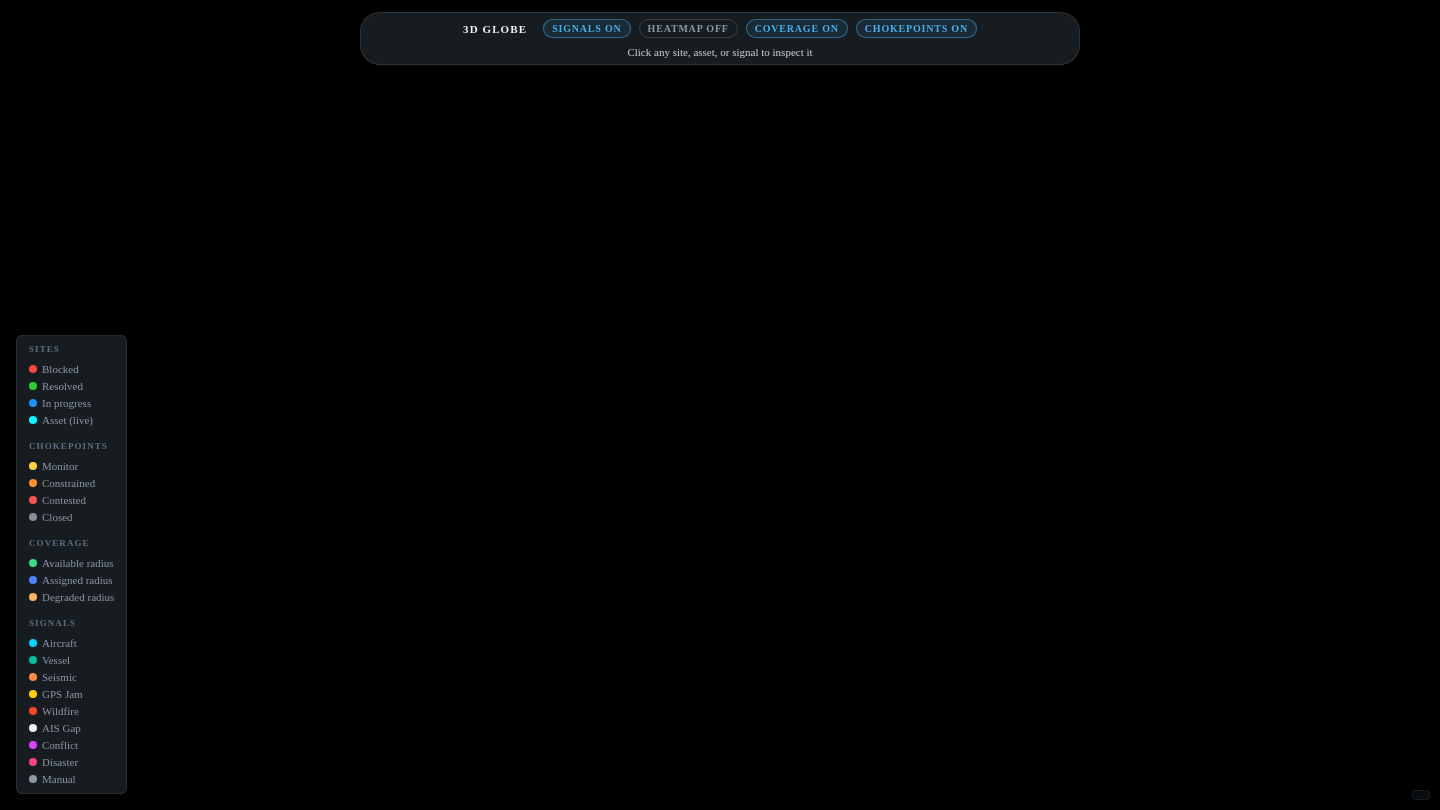
Test: GlobePage selection routing › toggles the heatmap overlay through globe page state
Expected: the text "LOW DENSITY" is not shown
Click the button "HEATMAP OFF".
click(688, 28)  # box [639,19,738,38]
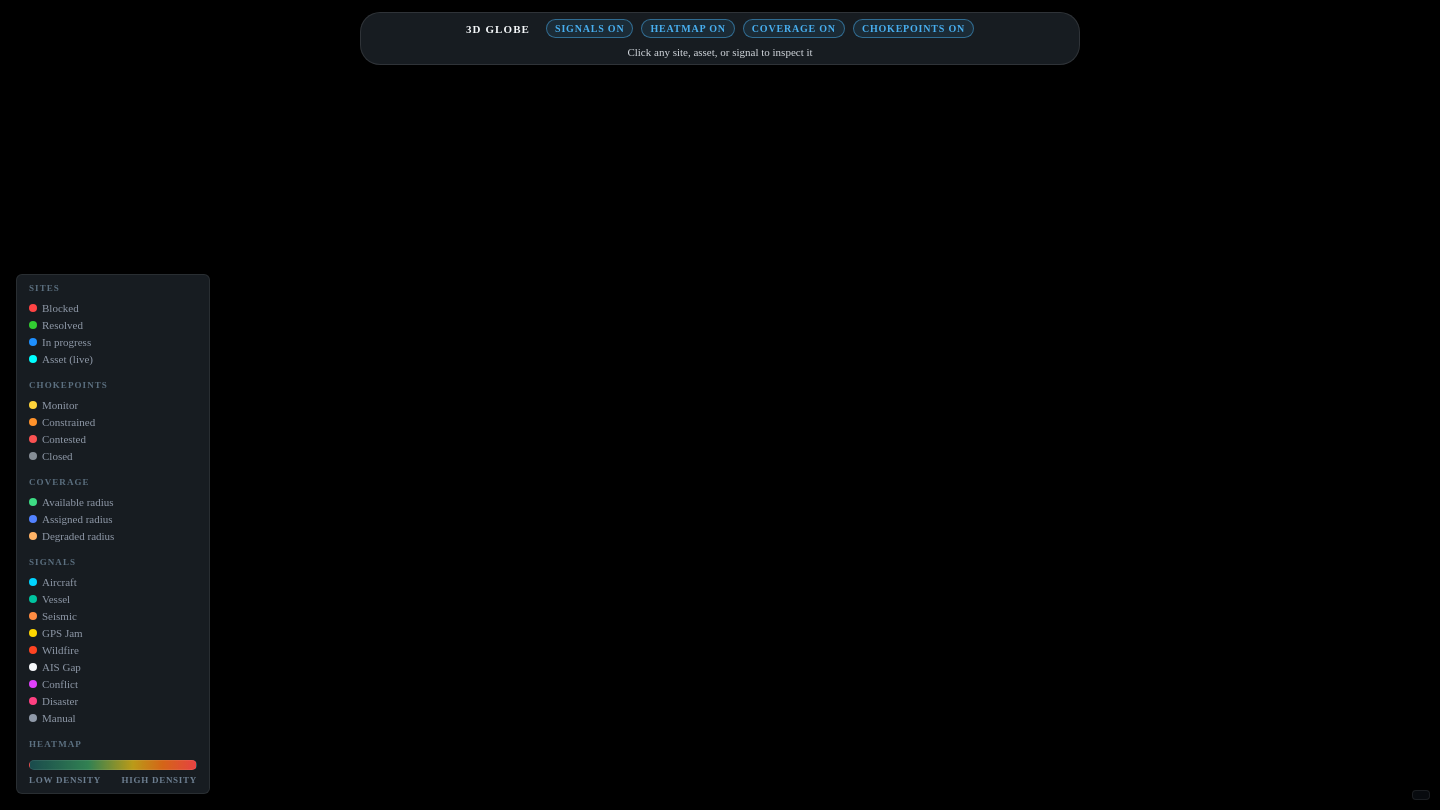
Result: the button "HEATMAP ON" is shown at [642,19,735,38]
Result: the text "LOW DENSITY" is shown at [29,775,101,785]
Result: the text "HIGH DENSITY" is shown at [122,775,197,785]
